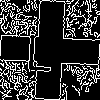L: (25, 25, 55, 72)
